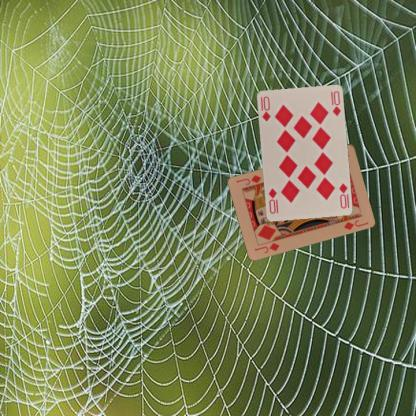10d: (258, 94, 272, 122), (336, 180, 348, 210)
Jd: (252, 240, 281, 254)
